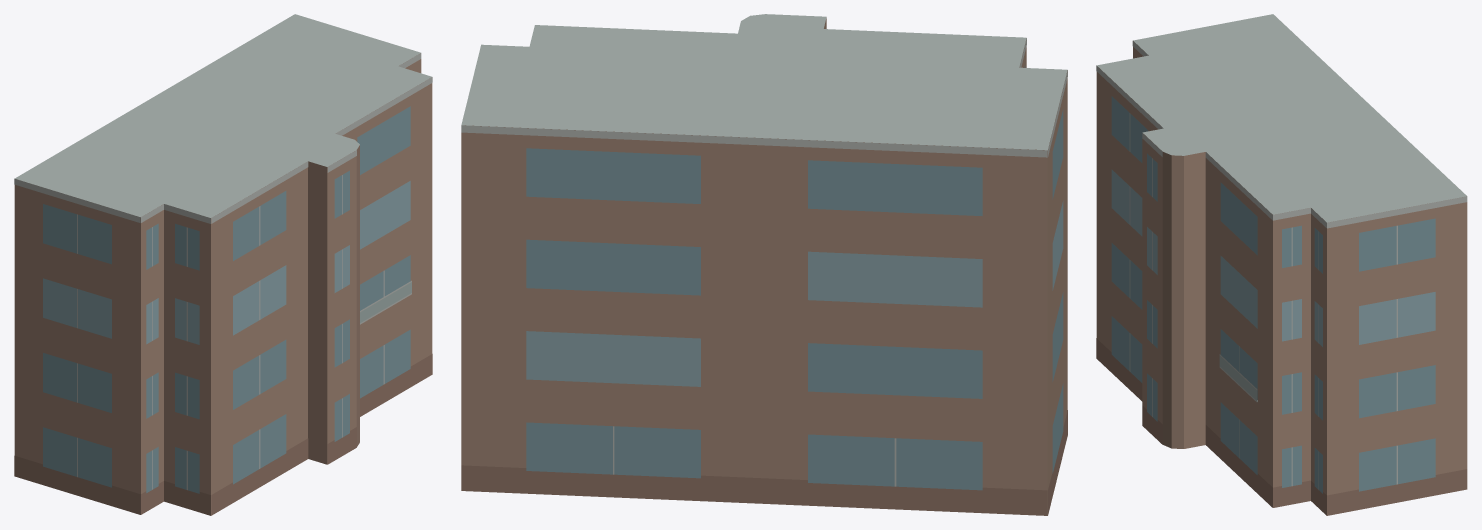
Rendered from survey-upis-32785652.glb.
The picture shows the model from 3 angles, left to right: view 1: azimuth 30°, elevation 25°; view 2: azimuth 150°, elevation 25°; view 3: azimuth 270°, elevation 25°; orthographic projection. The views are drawn at different scales.
Visible parts, largest first — view 1: survey-upis-32785652.tmp; view 2: survey-upis-32785652.tmp; view 3: survey-upis-32785652.tmp.
Boxes of the visible parts, bbox=[...] form: survey-upis-32785652.tmp: bbox=[14, 14, 432, 515]; survey-upis-32785652.tmp: bbox=[461, 14, 1067, 515]; survey-upis-32785652.tmp: bbox=[1096, 14, 1467, 515].
Bounding box in the file's own units: 18.63 × 12.2 × 13.99.
